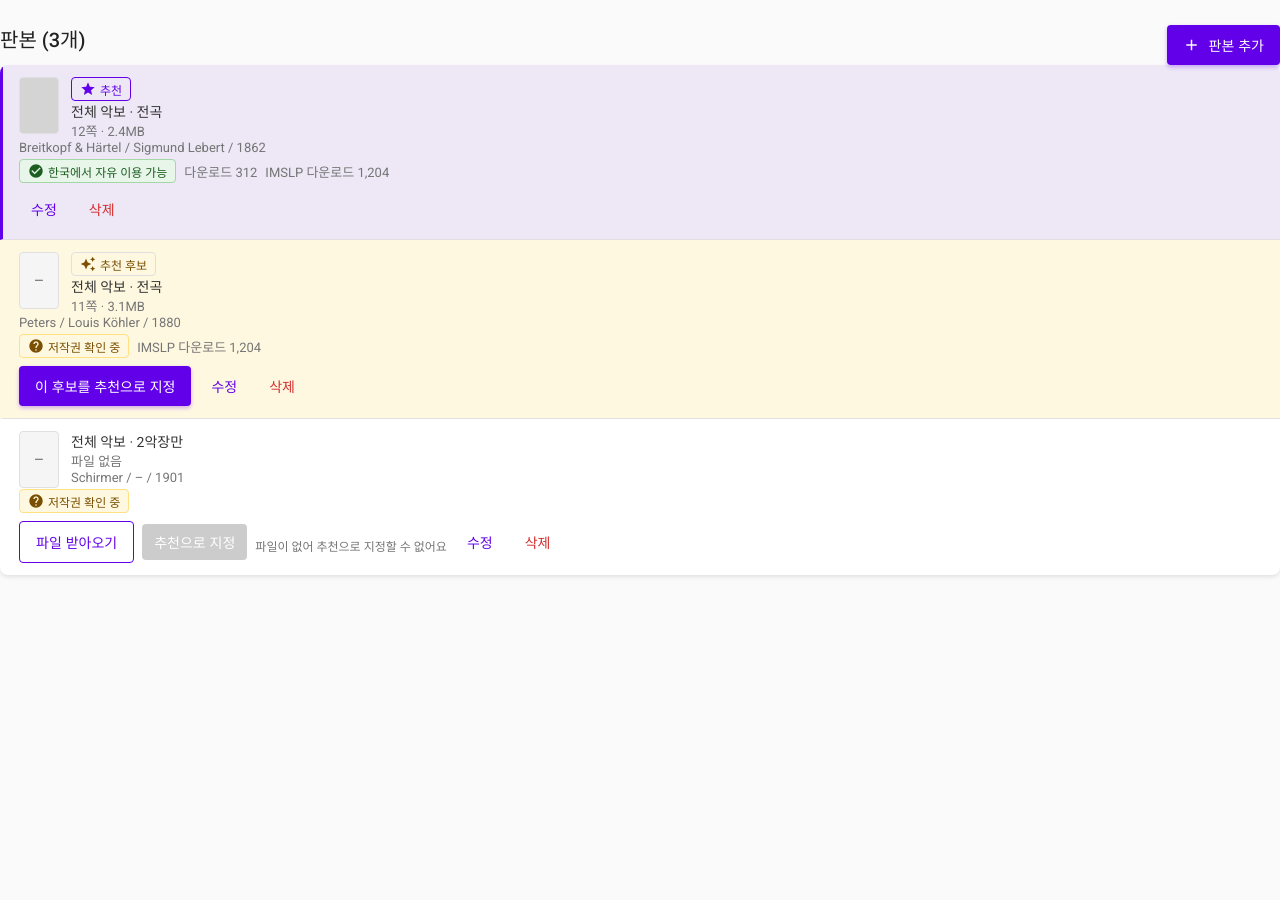
EditionListSection — 목록·행 표시 › 섹션 제목 '판본 (3개)' 과 '판본 추가' 버튼 → 판본 추가 모달
What coordinates should you click on to do the following:
click the button "판본 추가"
I would click on:
 (1223, 44)
Its box is left=1167, top=24, right=1279, bottom=64.
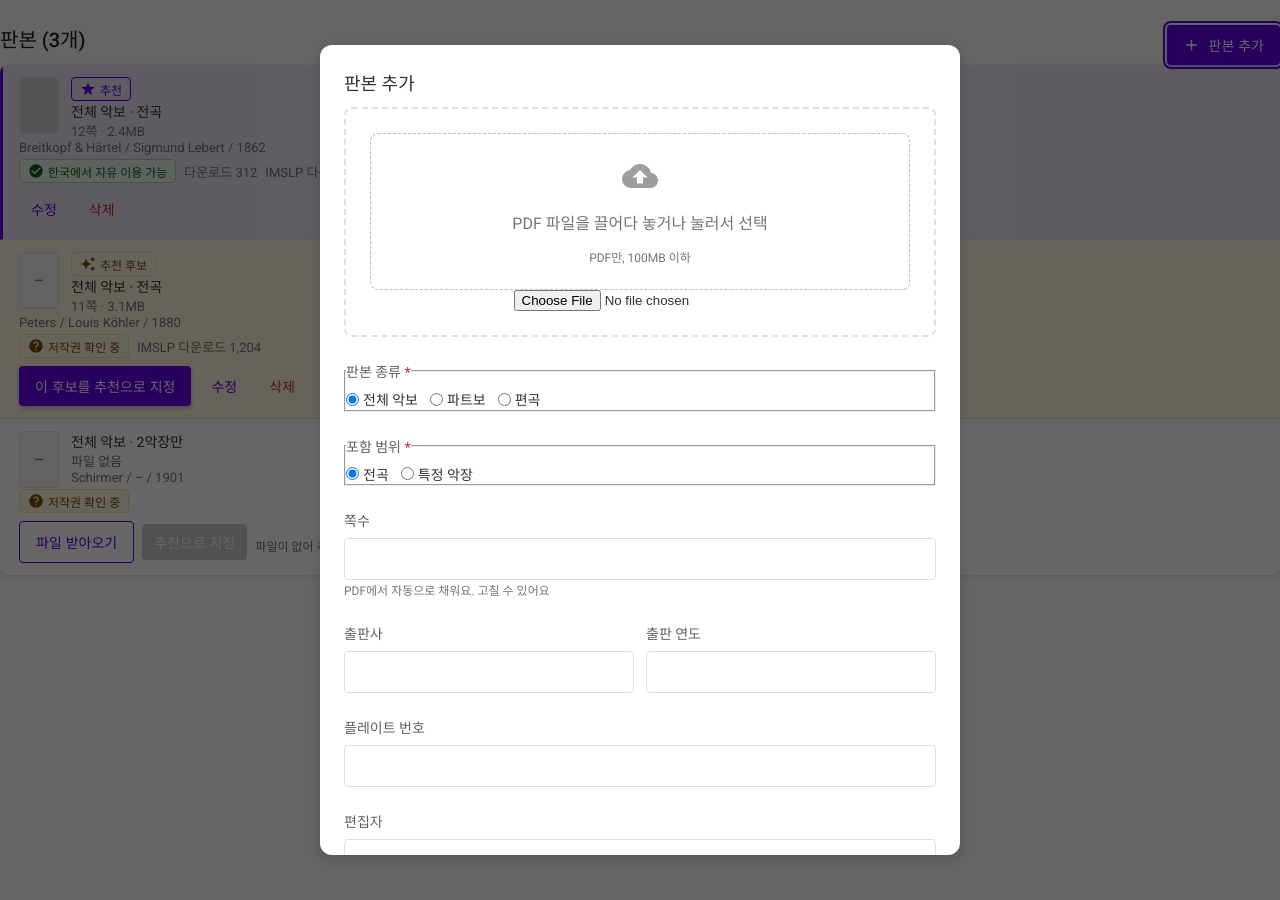
Expected: the heading "판본 추가" is shown, left=344, top=73, right=415, bottom=94
